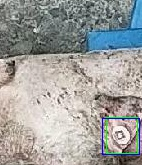text: (106, 117, 137, 153)
